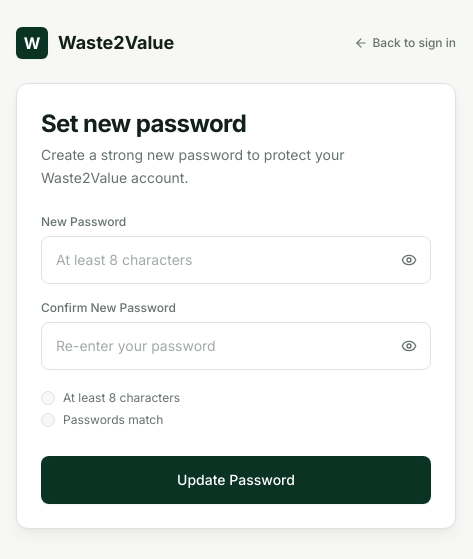
it: Authentication Flows & Security UX › ResetPasswordPage Behavior & Password Recovery Flow › validates password minimum length and mismatch in reset form
The width and height of the screenshot is (473, 559).
# Test short password
Type "short" into the password field labelled "New Password". click: point(236, 260)
box: [41, 236, 431, 284]
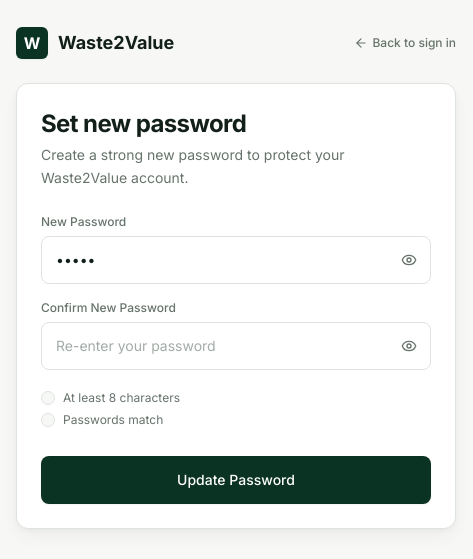
Type "short" into the password field labelled "Confirm New Password". click: point(236, 346)
box: [41, 322, 431, 370]
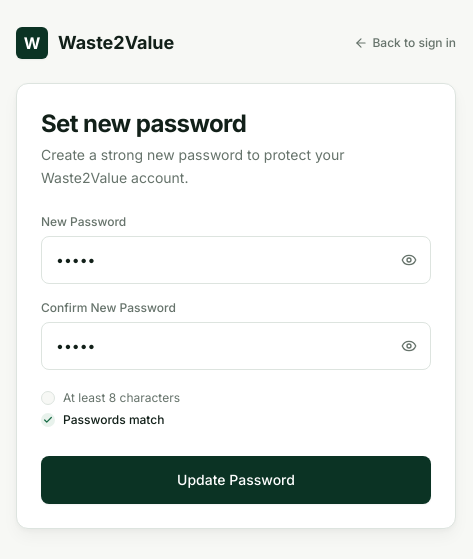
Click the button "Update Password". click: point(236, 480)
box: [41, 456, 431, 504]
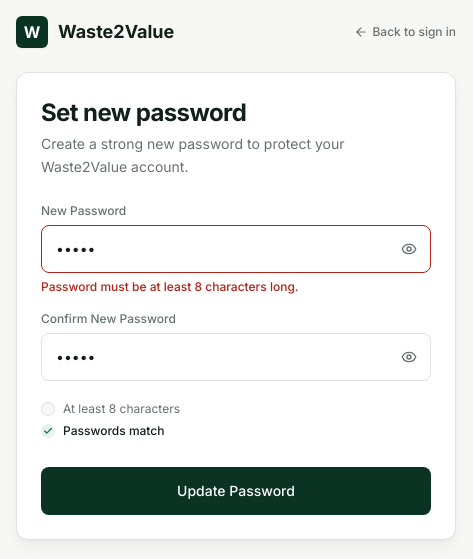
Check: the text "Password must be at least 8 characters long." is shown, box [41, 279, 298, 294]
# Test mismatched passwords
Type "ValidPassword123" into the password field labelled "New Password". click: point(236, 249)
box: [41, 225, 431, 273]
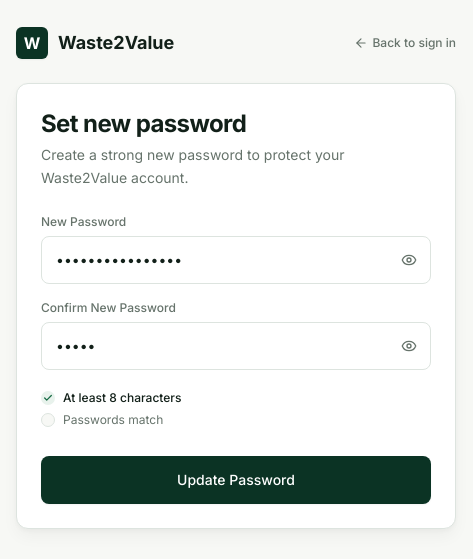
Type "DifferentPassword123" into the password field labelled "Confirm New Password". click: point(236, 346)
box: [41, 322, 431, 370]
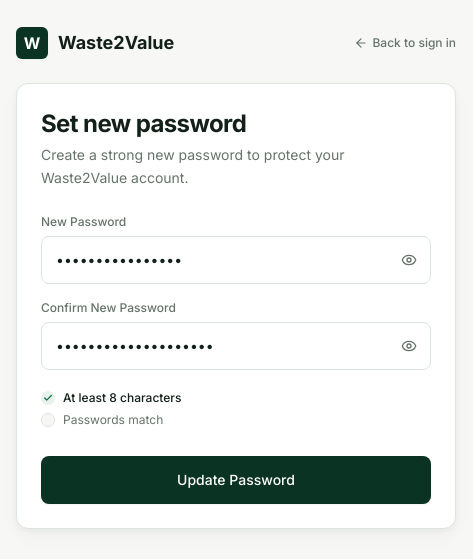
Click the button "Update Password". click: point(236, 480)
box: [41, 456, 431, 504]
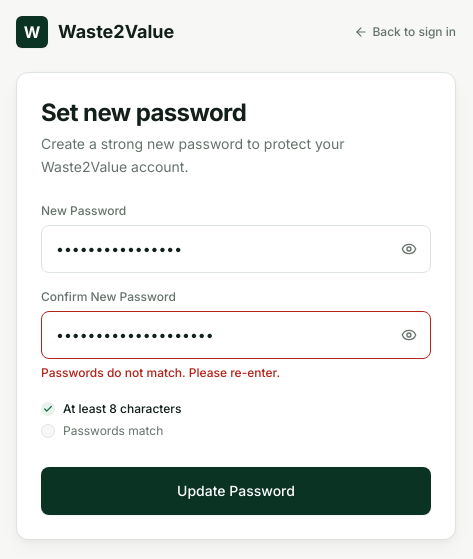
Check: the text "Passwords do not match. Please re-enter." is shown, box [41, 365, 280, 380]
